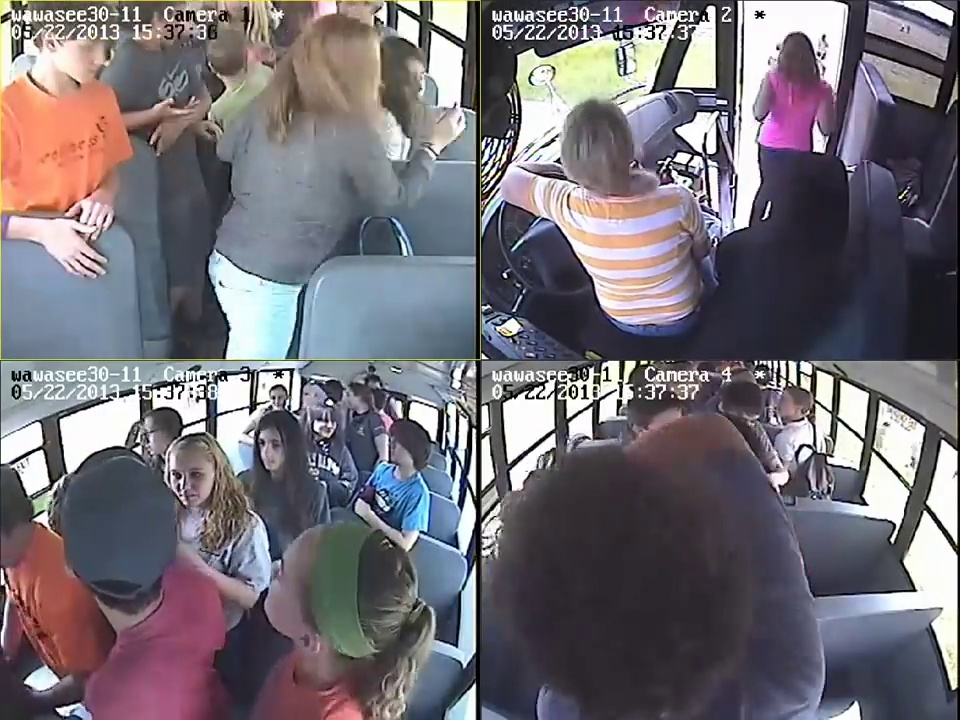face: (171, 448, 209, 503), (258, 421, 289, 476), (312, 415, 337, 438)
